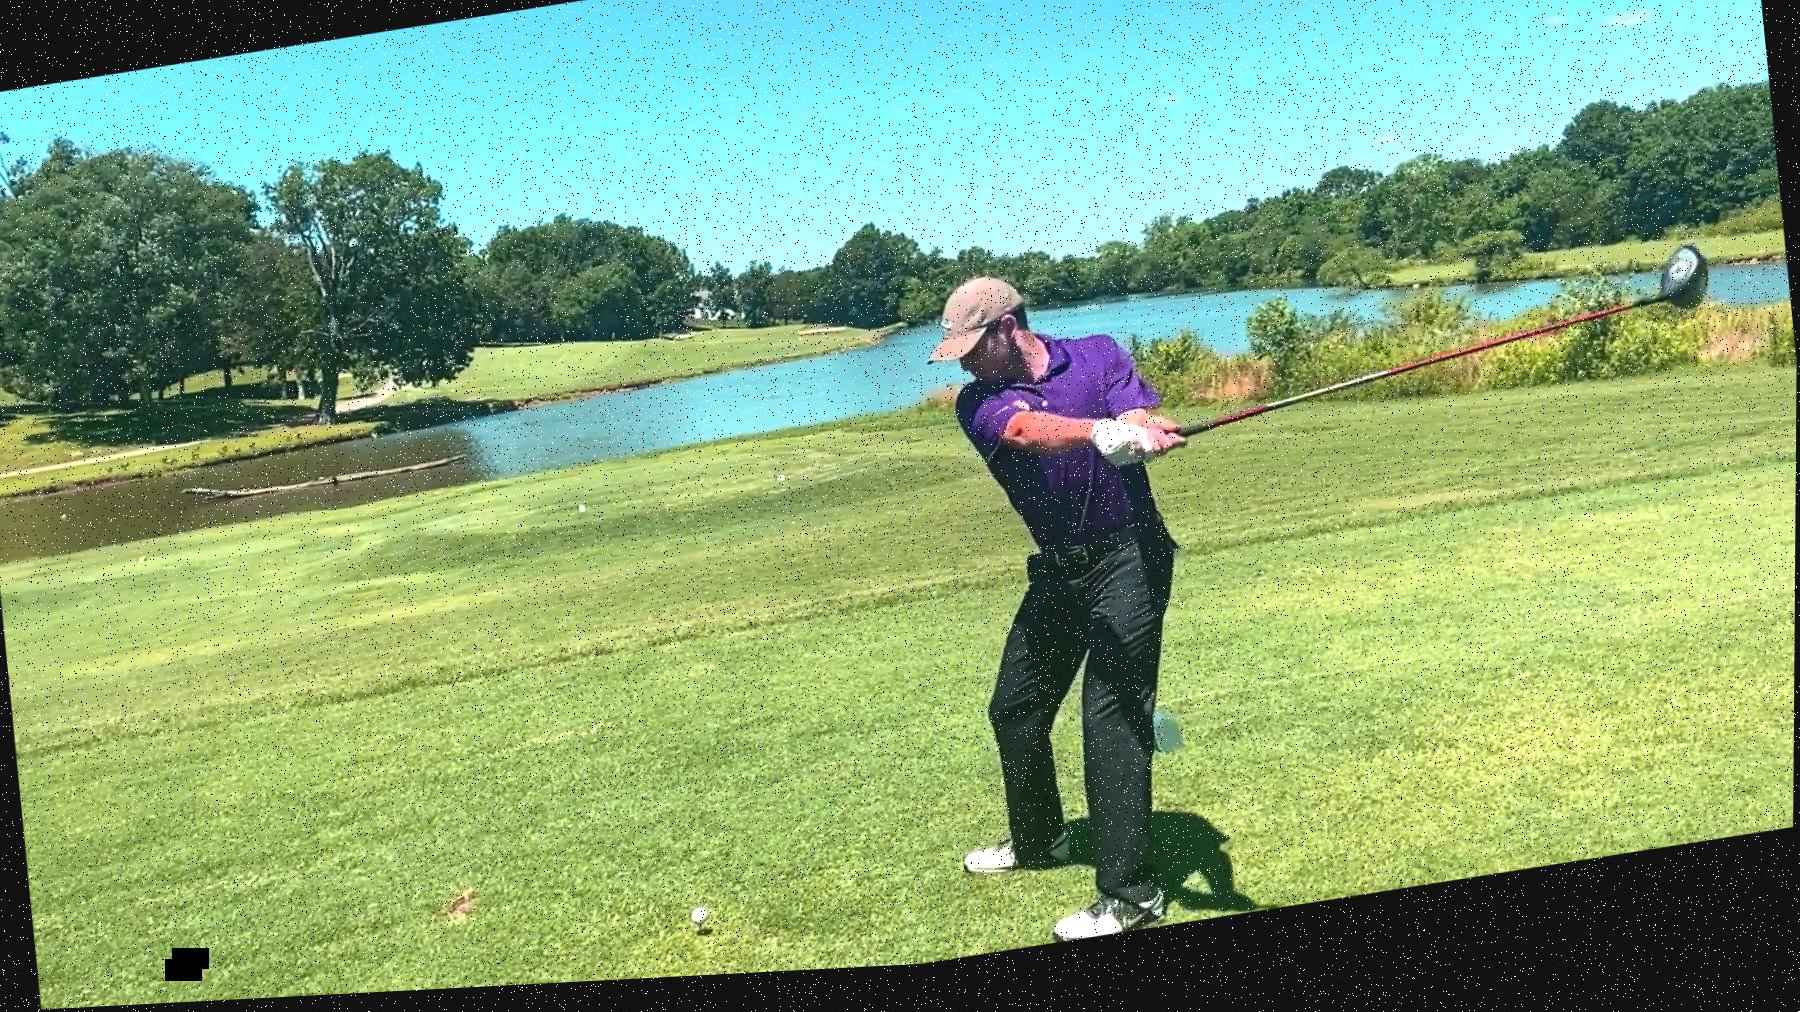ClubHead: (1627, 259, 1716, 344)
GolfBall: (687, 913, 712, 934)
